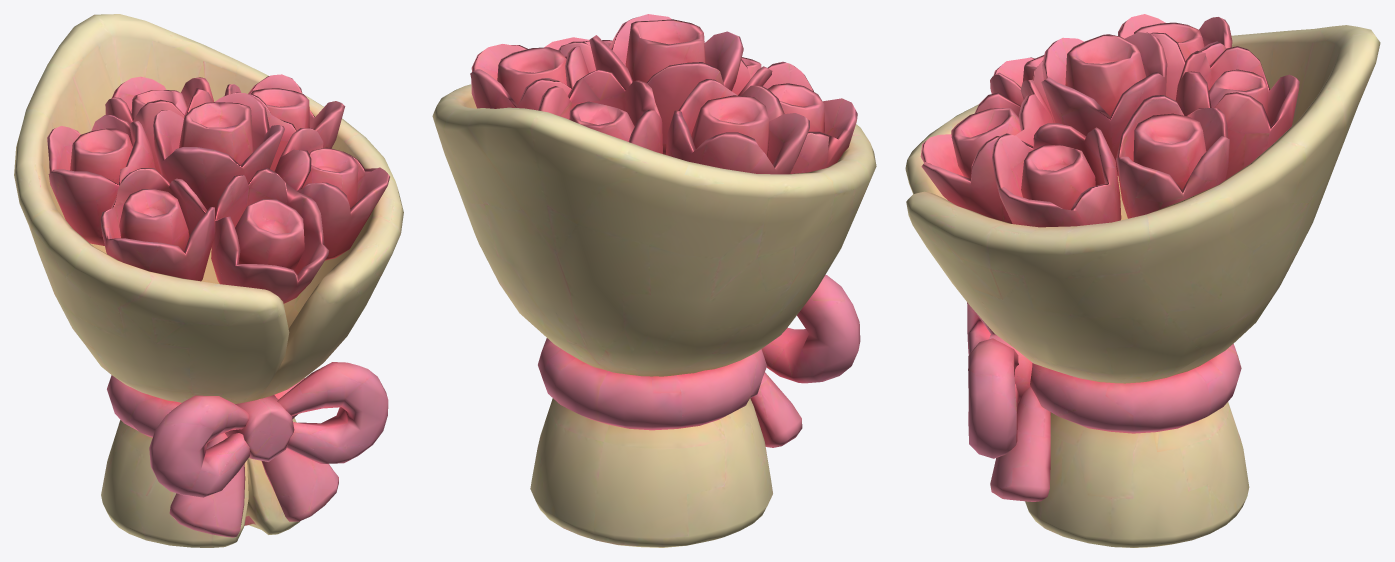
The model's file is gift-roses.glb.
3 views of the same model, side by side, from view 1: azimuth 30°, elevation 25°; view 2: azimuth 150°, elevation 25°; view 3: azimuth 270°, elevation 25° (orthographic). The views are drawn at different scales.
Parts seen in each view (by area): view 1: geometry_0; view 2: geometry_0; view 3: geometry_0.
Boxes of the visible parts, <box> form: geometry_0: <box>14,14,403,547</box>; geometry_0: <box>432,14,876,547</box>; geometry_0: <box>905,14,1380,547</box>.
Bounding box in the file's own units: 0.8445 × 1 × 0.9209.
Materials: 1 (1 with a texture image).
